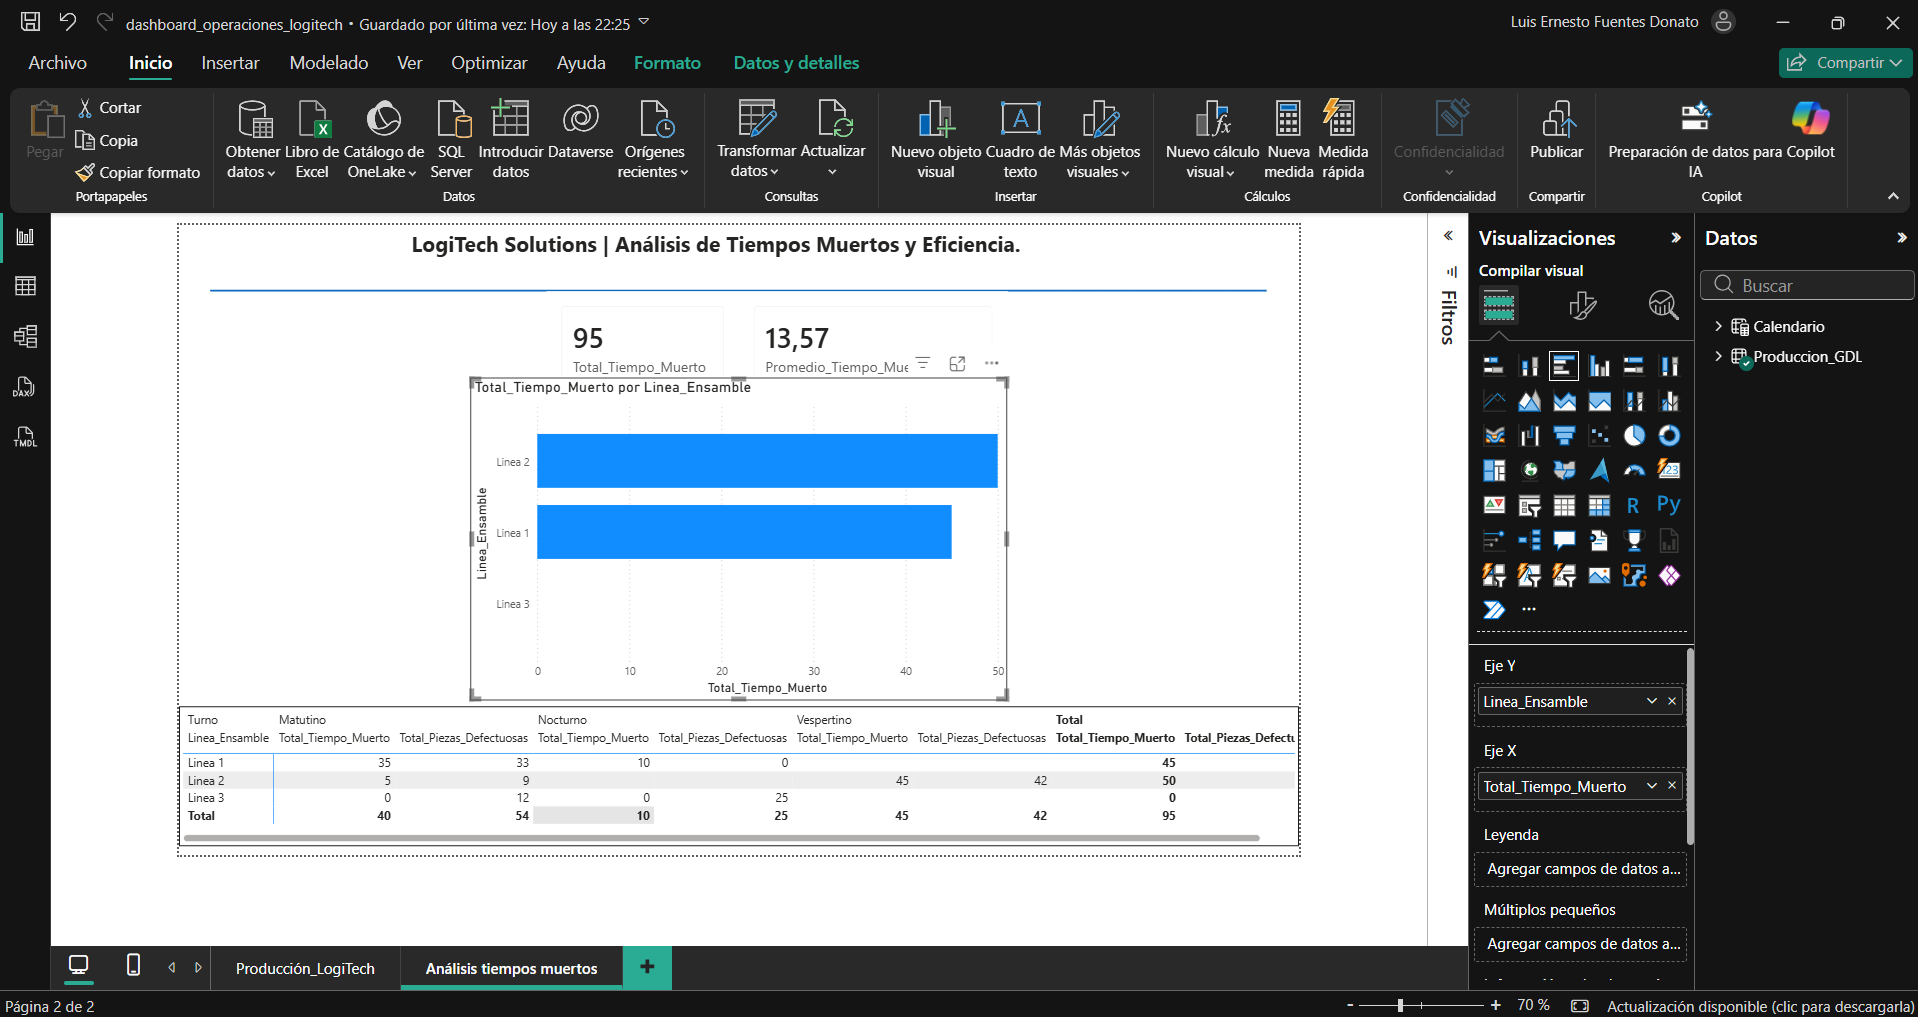

Layout of this report page (visuals, bound fields, positions):
{"tool":"powerbi","page":{"name":"Análisis tiempos muertos","canvas":[1280,720],"ordinal":1},"visuals":[{"type":"textbox","box":[10,0,1207.5,45],"z":0},{"type":"shape","box":[36.2,0,1207.5,150],"z":1000},{"type":"cardVisual","fields":{"Data":["Produccion_GDL.Total_Tiempo_Muerto"]},"box":[420,75,220,125],"z":2000},{"type":"cardVisual","fields":{"Data":["Produccion_GDL.Promedio_Tiempo_Muerto"]},"box":[640,75,307.5,125],"z":3000},{"type":"clusteredBarChart","fields":{"Category":["Produccion_GDL.Linea_Ensamble"],"Y":["Produccion_GDL.Total_Tiempo_Muerto"]},"box":[332.5,175,615,367.5],"z":4000},{"type":"pivotTable","fields":{"Rows":["Produccion_GDL.Linea_Ensamble"],"Columns":["Produccion_GDL.Turno"],"Values":["Produccion_GDL.Total_Tiempo_Muerto","Produccion_GDL.Total_Piezas_Defectuosas"]},"box":[0,550,1280,160],"z":4001}]}

Visuals, with their boxes on the page's 1280x720 design canvas (x1, y1, x2, y2). These are canvas units, not pixel positions in the 1918x1017 screenshot, which may show the page scaled, cropped or inside an application window:
textbox: 10,0,1218,45
shape: 36,0,1244,150
cardVisual - Produccion_GDL.Total_Tiempo_Muerto: 420,75,640,200
cardVisual - Produccion_GDL.Promedio_Tiempo_Muerto: 640,75,948,200
clusteredBarChart - Produccion_GDL.Linea_Ensamble x Produccion_GDL.Total_Tiempo_Muerto: 332,175,948,542
pivotTable - Produccion_GDL.Linea_Ensamble x Produccion_GDL.Turno: 0,550,1280,710
